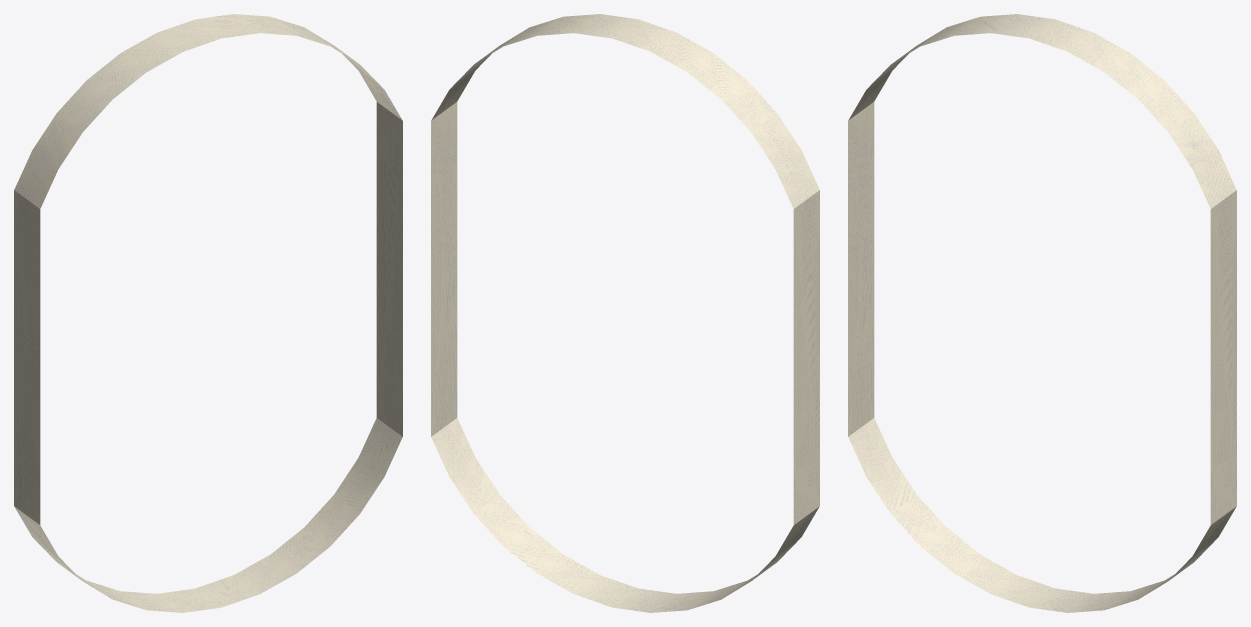
Rendered from original-52.obj.
The picture shows the model from 3 angles, left to right: view 1: azimuth 30°, elevation 25°; view 2: azimuth 150°, elevation 25°; view 3: azimuth 330°, elevation 25°; orthographic projection.
Parts seen in each view (by area): view 1: mesh33/mesh33-geometry/material_3/component_4#mesh33-geometry; view 2: mesh33/mesh33-geometry/material_3/component_4#mesh33-geometry; view 3: mesh33/mesh33-geometry/material_3/component_4#mesh33-geometry.
Boxes of the visible parts, box(x1,y1,x2,y2) form: mesh33/mesh33-geometry/material_3/component_4#mesh33-geometry: box(14, 14, 402, 612); mesh33/mesh33-geometry/material_3/component_4#mesh33-geometry: box(431, 14, 819, 612); mesh33/mesh33-geometry/material_3/component_4#mesh33-geometry: box(848, 14, 1236, 612).
Bounding box in the file's own units: 0.0153 × 0.0229 × 0.00191.
